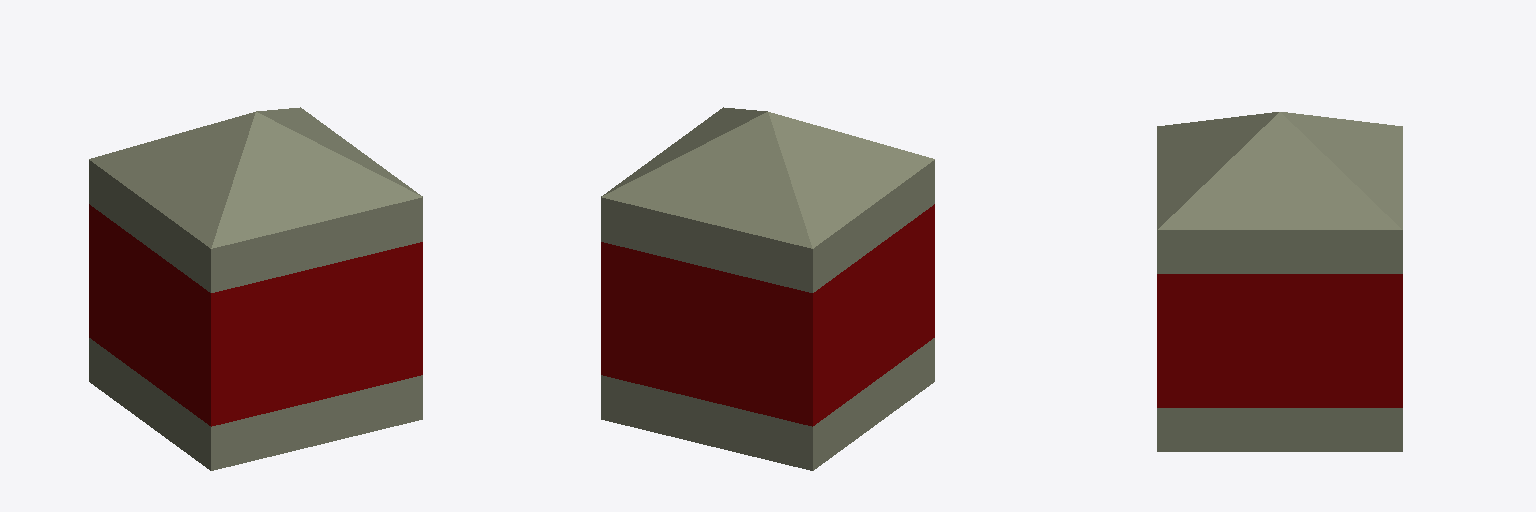
The model's file is floor_lantern.obj.
The picture shows the model from 3 angles: view 1: azimuth 30°, elevation 25°; view 2: azimuth 150°, elevation 25°; view 3: azimuth 270°, elevation 25°; orthographic projection.
Parts seen in each view (by area): view 1: Cube; view 2: Cube; view 3: Cube.
Boxes of the visible parts, <box> form: Cube: <box>89,107,422,470</box>; Cube: <box>601,107,934,470</box>; Cube: <box>1157,112,1402,451</box>.
Size of the model in its own units: 0.5 by 0.65 by 0.5.